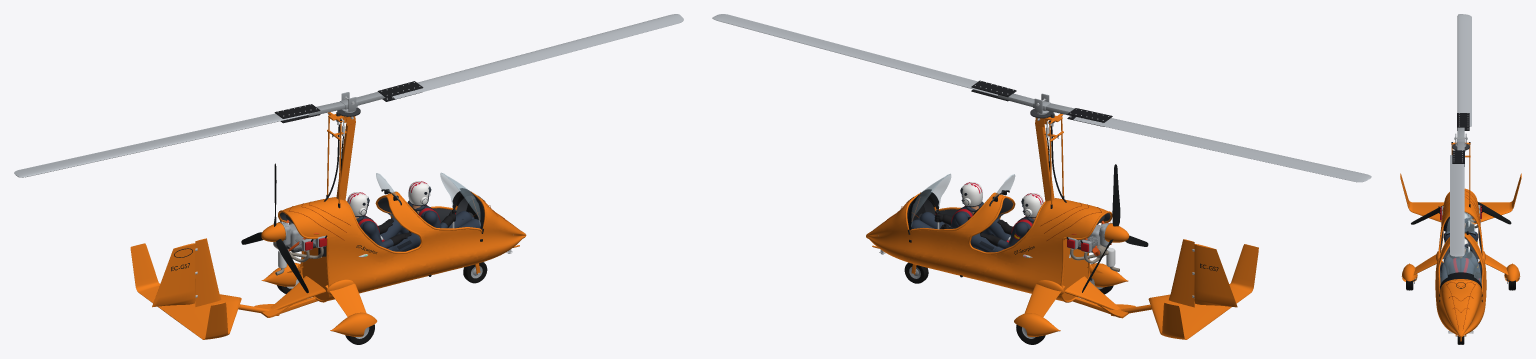
File: scorpion.glb
3 renders of one model, left to right at view 1: azimuth 30°, elevation 25°; view 2: azimuth 150°, elevation 25°; view 3: azimuth 270°, elevation 25°, orthographic. The views are drawn at different scales.
Parts seen in each view (by area): view 1: airframe, rotor, rudder, pilot_rear, prop, windscreen, pilot_front; view 2: airframe, rotor, rudder, pilot_rear, prop, windscreen, pilot_front; view 3: airframe, rotor, windscreen, pilot_front, pilot_rear, prop.
Part boxes in pixels (box(x1,y1,x2,y2)): airframe: box(130, 112, 526, 339); rotor: box(14, 14, 683, 177); rudder: box(152, 243, 197, 307); pilot_rear: box(347, 192, 420, 251); prop: box(241, 163, 308, 293); windscreen: box(360, 172, 483, 256); pilot_front: box(408, 181, 441, 228); airframe: box(866, 116, 1258, 339); rotor: box(712, 14, 1371, 182); rudder: box(1192, 244, 1237, 307); pilot_rear: box(970, 193, 1043, 252); prop: box(1082, 164, 1148, 292); windscreen: box(908, 174, 1030, 257); pilot_front: box(950, 182, 982, 228); airframe: box(1400, 142, 1521, 341); rotor: box(1450, 14, 1471, 256); windscreen: box(1440, 212, 1481, 289); pilot_front: box(1448, 238, 1474, 274); pilot_rear: box(1440, 213, 1481, 282); prop: box(1411, 202, 1511, 224).
Size of the model in its own units: 8.5 by 2.67 by 1.8.
